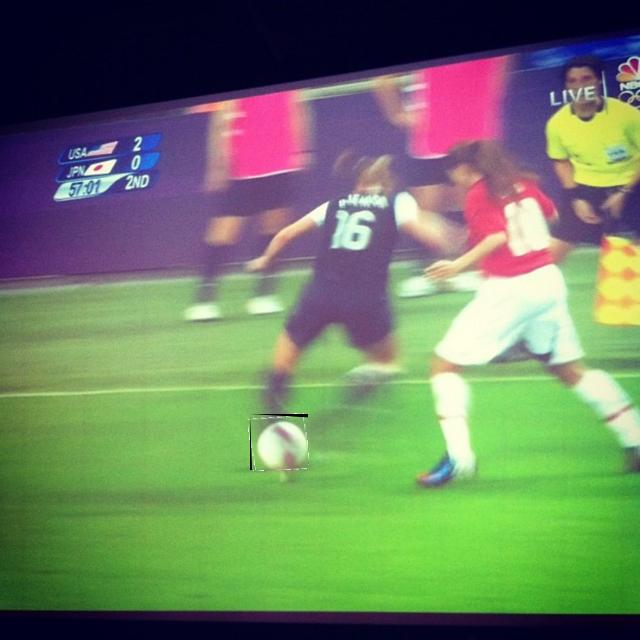Football: (250, 414, 308, 470)
